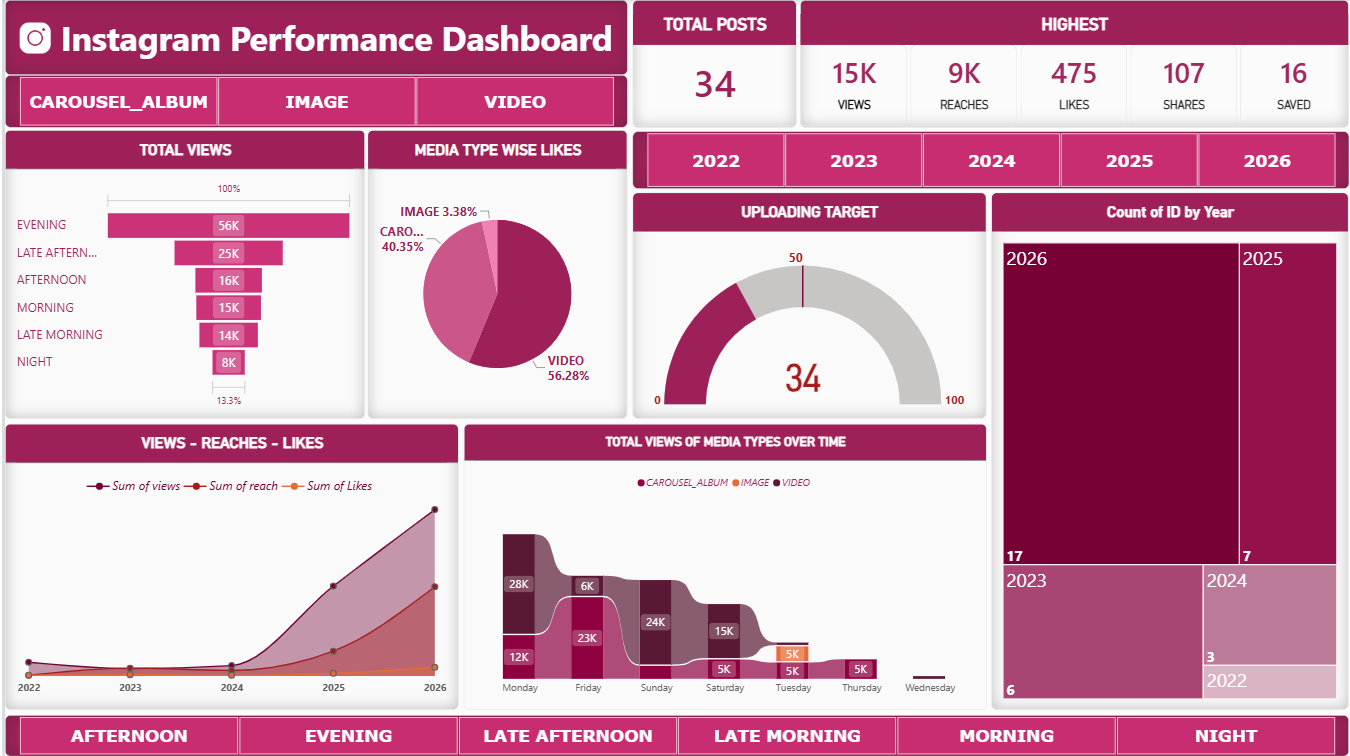

Layout of this report page (visuals, bound fields, positions):
{"tool":"powerbi","page":{"name":"MY INSTAGRAM DESKTOP","canvas":[1920,1080],"ordinal":0},"visuals":[{"type":"textbox","box":[10,0,280,280],"z":0},{"type":"textbox","box":[0,0,889.3,107.1],"z":1000},{"type":"cardVisual","title":"TOTAL POSTS","fields":{"Data":["Count(MY_INSTA.ID)"]},"box":[896,0,234.7,182],"z":2000},{"type":"cardVisual","title":"HIGHEST","fields":{"Data":["Max(MY_INSTA.views)","Max(MY_INSTA.reach)","Max(MY_INSTA.LIKES)","Max(MY_INSTA.shares)","Max(MY_INSTA.saved)"]},"box":[1135.7,0,783.9,182.1],"z":3000},{"type":"slicer","fields":{"Values":["MY_INSTA.MEDIA_TYPE"]},"box":[0,107.1,889.3,75],"z":4000},{"type":"slicer","fields":{"Values":["MY_INSTA.Year"]},"box":[896.2,187.7,1023.8,82.3],"z":5000},{"type":"slicer","fields":{"Values":["MY_INSTA.NOONS"]},"box":[0,1021.4,1919.7,58.9],"z":6000},{"type":"funnel","title":"TOTAL VIEWS","fields":{"Category":["MY_INSTA.NOONS"],"Y":["Sum(MY_INSTA.views)"]},"box":[0,185.7,514.3,412.5],"z":7000},{"type":"pieChart","title":"MEDIA TYPE WISE LIKES","fields":{"Category":["MY_INSTA.MEDIA_TYPE"],"Y":["Sum(MY_INSTA.views)"]},"box":[517.9,185.7,371.4,412.5],"z":8000},{"type":"treemap","fields":{"Values":["CountNonNull(MY_INSTA.ID)"],"Group":["MY_INSTA.Year"]},"box":[1408.7,274.7,510.7,739.3],"z":9000},{"type":"areaChart","title":"VIEWS - REACHES - LIKES","fields":{"Category":["MY_INSTA.Date.Variation.Date Hierarchy.Year","MY_INSTA.Date.Variation.Date Hierarchy.Quarter","MY_INSTA.Date.Variation.Date Hierarchy.Month","MY_INSTA.Date.Variation.Date Hierarchy.Day"],"Y":["Sum(MY_INSTA.views)","Sum(MY_INSTA.reach)","Sum(MY_INSTA.LIKES)"]},"box":[0,605.4,648.2,408.9],"z":10000},{"type":"columnChart","title":"TOTAL VIEWS OF MEDIA TYPES OVER TIME","fields":{"Category":["MY_INSTA.Day Name"],"Series":["MY_INSTA.MEDIA_TYPE"],"Y":["Sum(MY_INSTA.views)"]},"box":[654.7,605.3,747.1,408.8],"z":11000},{"type":"gauge","title":"UPLOADING TARGET","fields":{"TargetValue":["MY_INSTA.TARGET"],"Y":["CountNonNull(MY_INSTA.ID)"],"MinValue":["MY_INSTA.MIN"],"MaxValue":["MY_INSTA.MAX"]},"box":[896.7,274.7,505.3,323.3],"z":12000},{"type":"image","box":[17.9,10.7,50,87.5],"z":12001}]}

Visuals, with their boxes in screenshot pixels (x1, y1, x2, y2), scaled from the page's 1920x1080 canvas onto the 1350x756 screenshot:
textbox: l=7, t=0, r=204, b=196
textbox: l=0, t=0, r=625, b=75
"TOTAL POSTS" cardVisual: l=630, t=0, r=795, b=127
"HIGHEST" cardVisual: l=799, t=0, r=1349, b=127
slicer - MY_INSTA.MEDIA_TYPE: l=0, t=75, r=625, b=127
slicer - MY_INSTA.Year: l=630, t=131, r=1349, b=189
slicer - MY_INSTA.NOONS: l=0, t=715, r=1349, b=755
"TOTAL VIEWS" funnel: l=0, t=130, r=362, b=419
"MEDIA TYPE WISE LIKES" pieChart: l=364, t=130, r=625, b=419
treemap - CountNonNull(MY_INSTA.ID) x MY_INSTA.Year: l=990, t=192, r=1349, b=710
"VIEWS - REACHES - LIKES" areaChart: l=0, t=424, r=456, b=710
"TOTAL VIEWS OF MEDIA TYPES OVER TIME" columnChart: l=460, t=424, r=986, b=710
"UPLOADING TARGET" gauge: l=630, t=192, r=986, b=419
image: l=13, t=7, r=48, b=69
